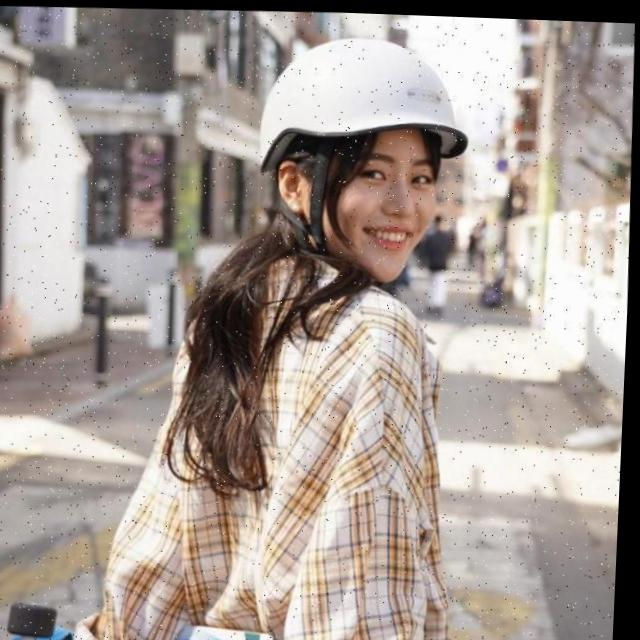helmet: (257, 25, 476, 288)
